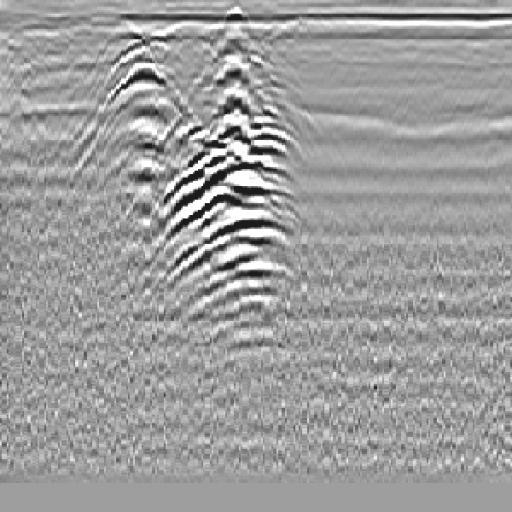metalic: (145, 18, 339, 374)
nonmetalic: (63, 33, 206, 196)
